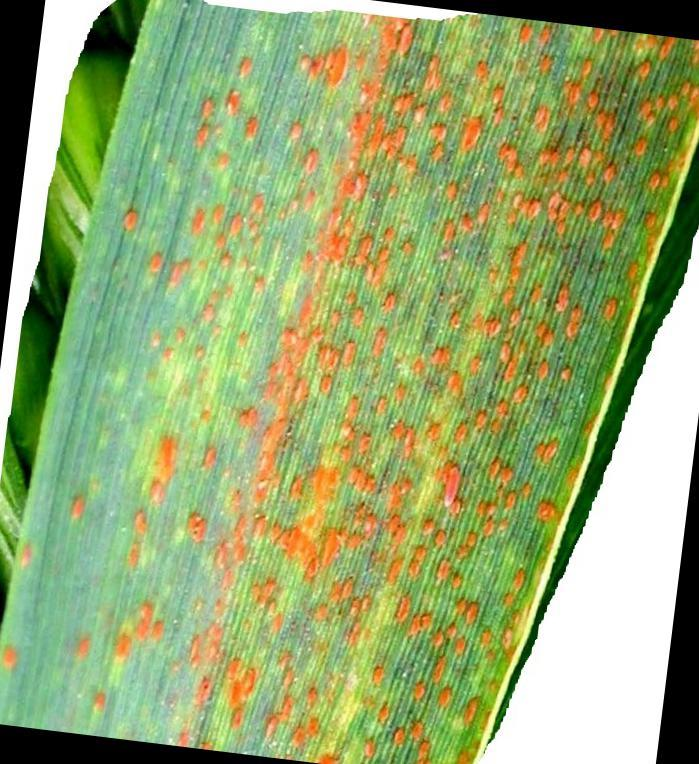Wheat: (158, 11, 396, 744), (420, 235, 591, 704), (411, 40, 622, 224)
